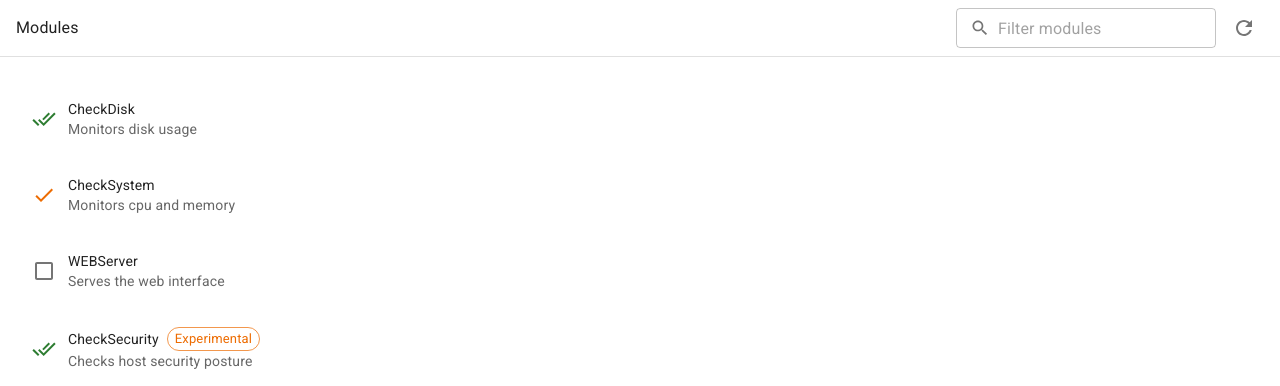
Modules page › filters on the experimental marker
The width and height of the screenshot is (1280, 386).
Expected: the text "CheckSecurity" is shown, [68,329,159,349]
Type "experimental" into the field with placeholder "Filter modules" at [1107, 28], box [998,8,1216,48]
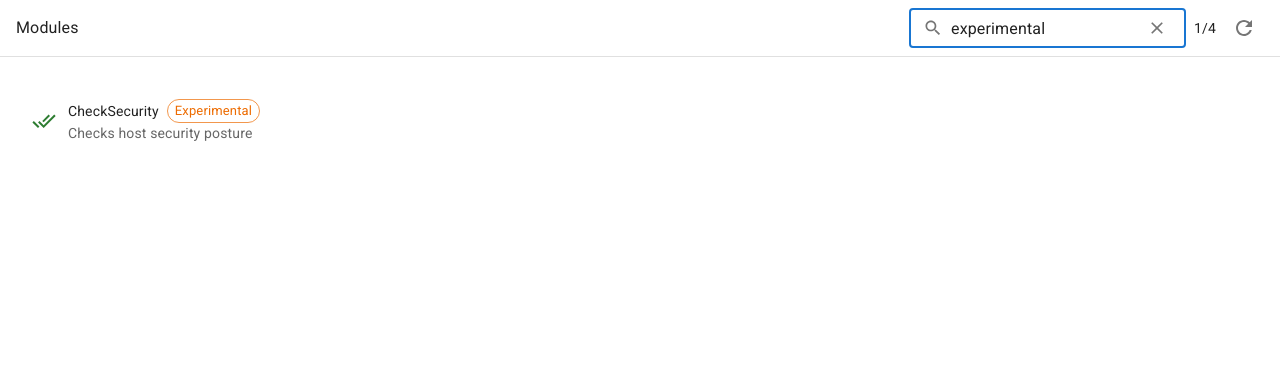
Expected: the text "CheckSecurity" is shown, [68,101,159,121]
Expected: the button "CheckDisk" is gone
Expected: the text "1/4" is shown, [1194,18,1216,38]
